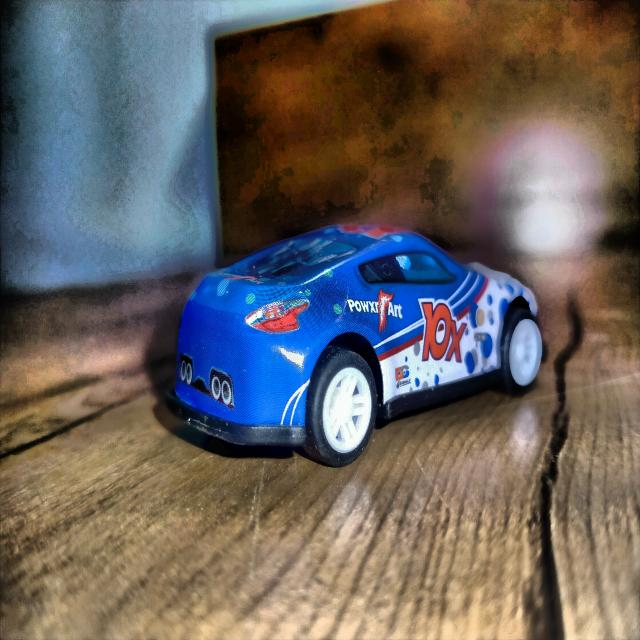Car: (167, 228, 543, 466)
